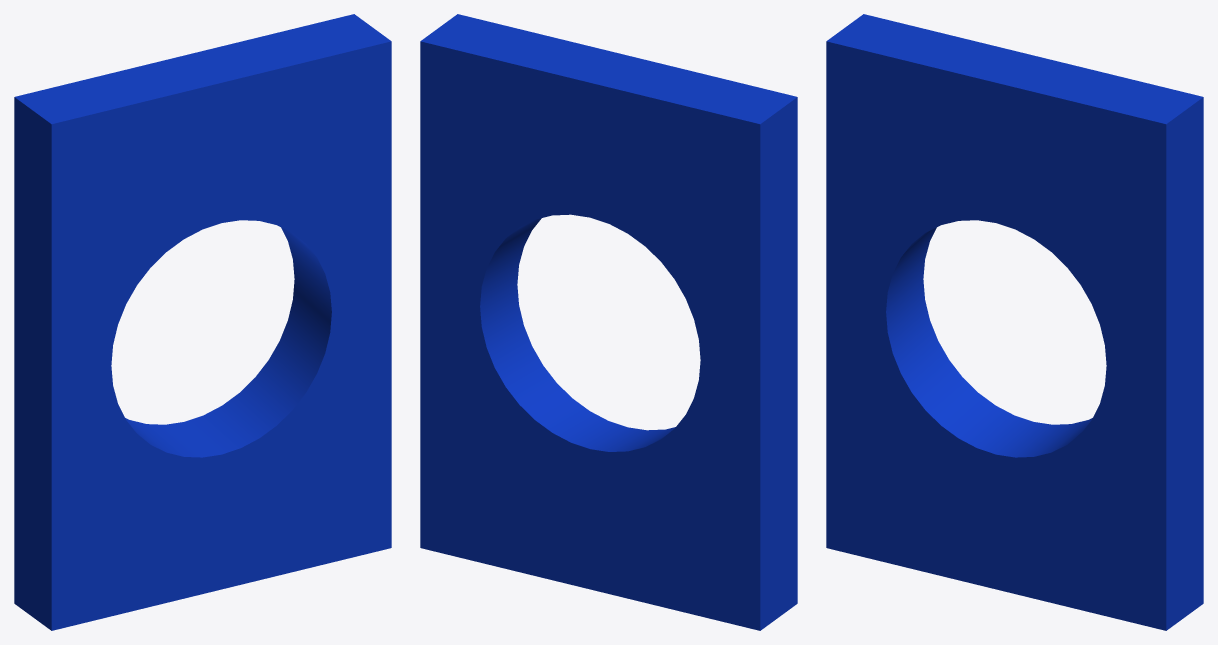
Rendered from Wall with Hole.fbx.
3 renders of one model, left to right at view 1: azimuth 30°, elevation 25°; view 2: azimuth 150°, elevation 25°; view 3: azimuth 330°, elevation 25°, orthographic.
Parts seen in each view (by area): view 1: Cube, Cylinder; view 2: Cube, Cylinder; view 3: Cube, Cylinder.
Part boxes in pixels (x1=…): Cube: x1=14, y1=14, x2=391, y2=630; Cylinder: x1=125, y1=227, x2=331, y2=457; Cube: x1=420, y1=14, x2=797, y2=630; Cylinder: x1=480, y1=218, x2=675, y2=451; Cube: x1=826, y1=14, x2=1203, y2=630; Cylinder: x1=886, y1=227, x2=1092, y2=457.
Size of the model in its own units: 278 by 396 by 52.88.
